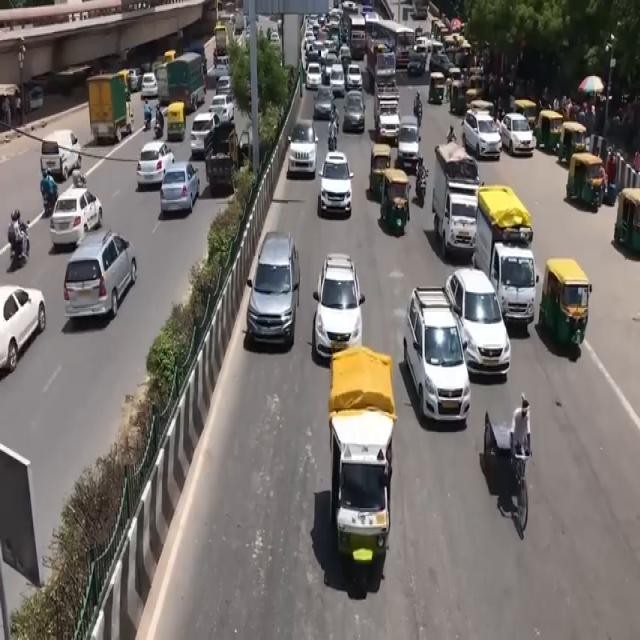BUS: (367, 18, 417, 76)
MOTORCYCLE: (8, 224, 29, 273)
TRUCK: (326, 401, 392, 588)
